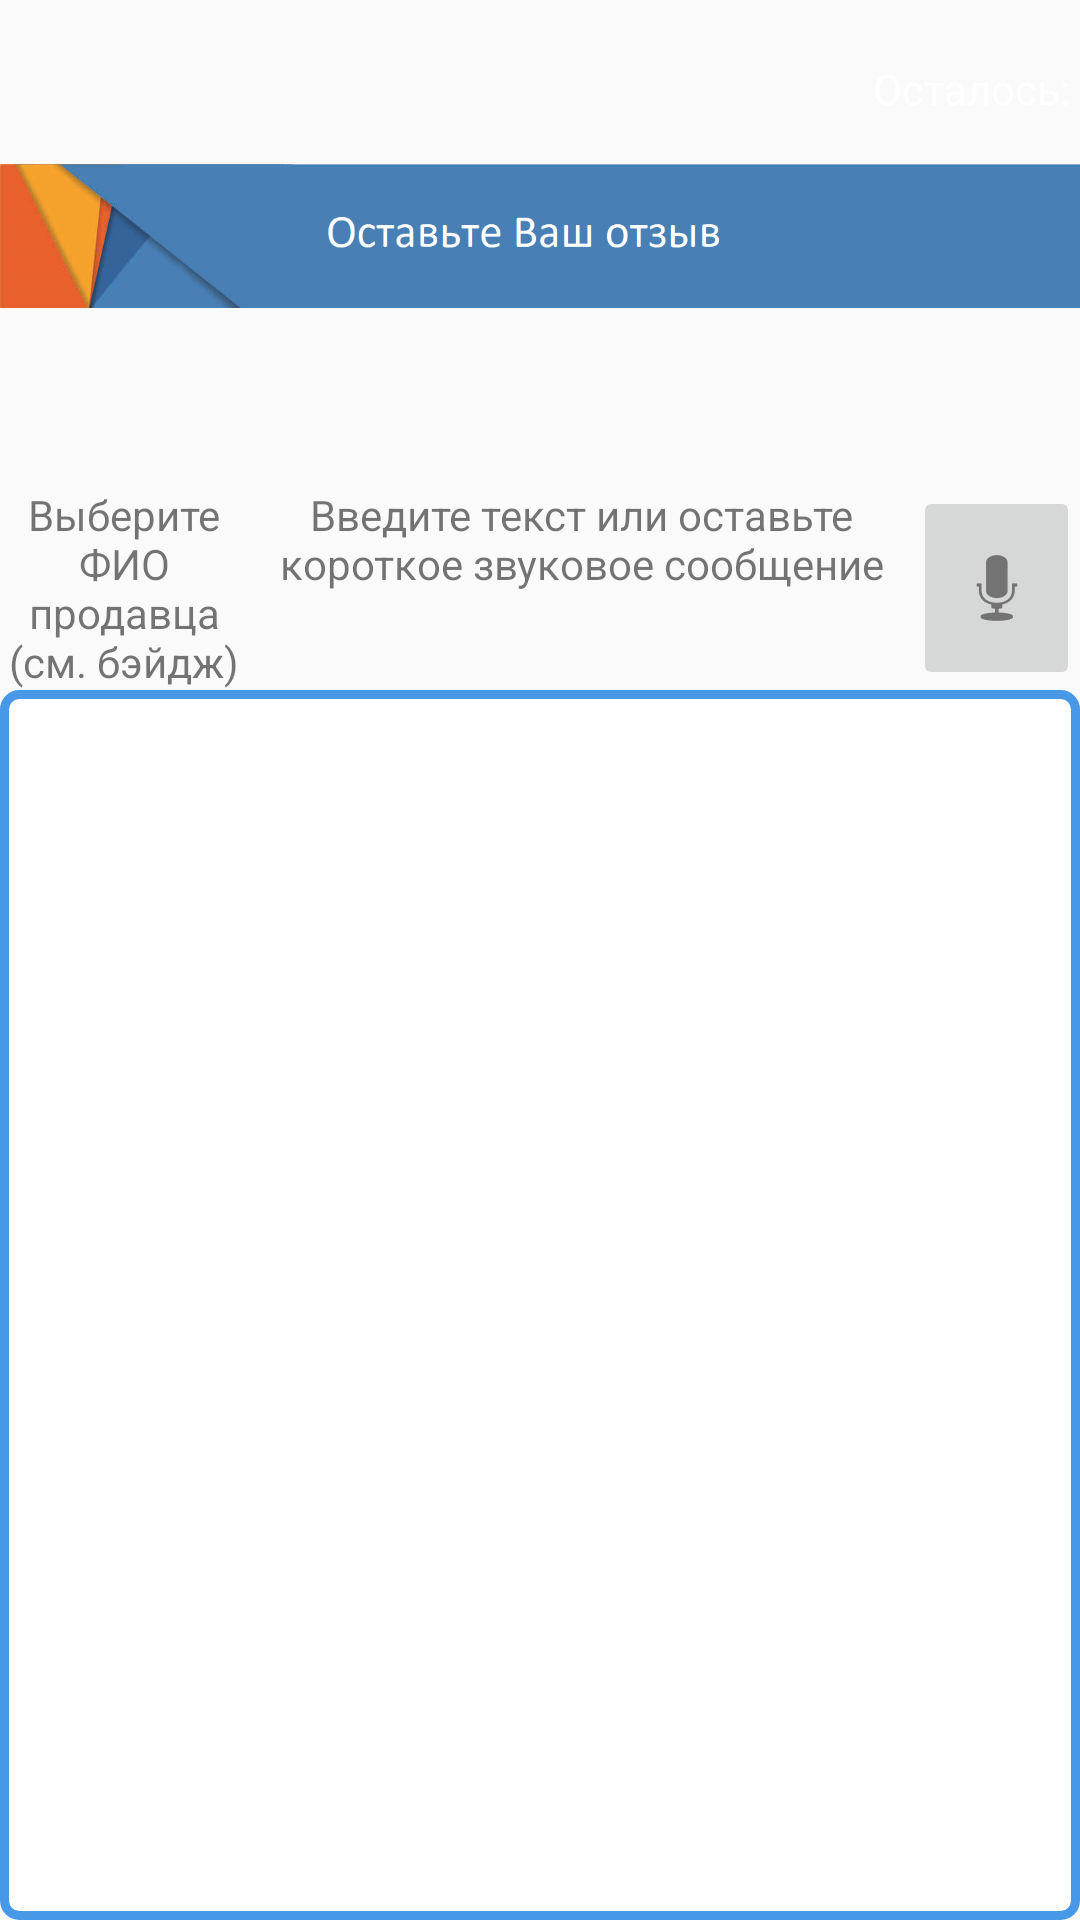

Screen size 1080*1920. Icon name, then its box in pixels as [x1=x1, y1=y1, x2=x2, y2=y2]:
speak now: [x1=925, y1=504, x2=1068, y2=672]
